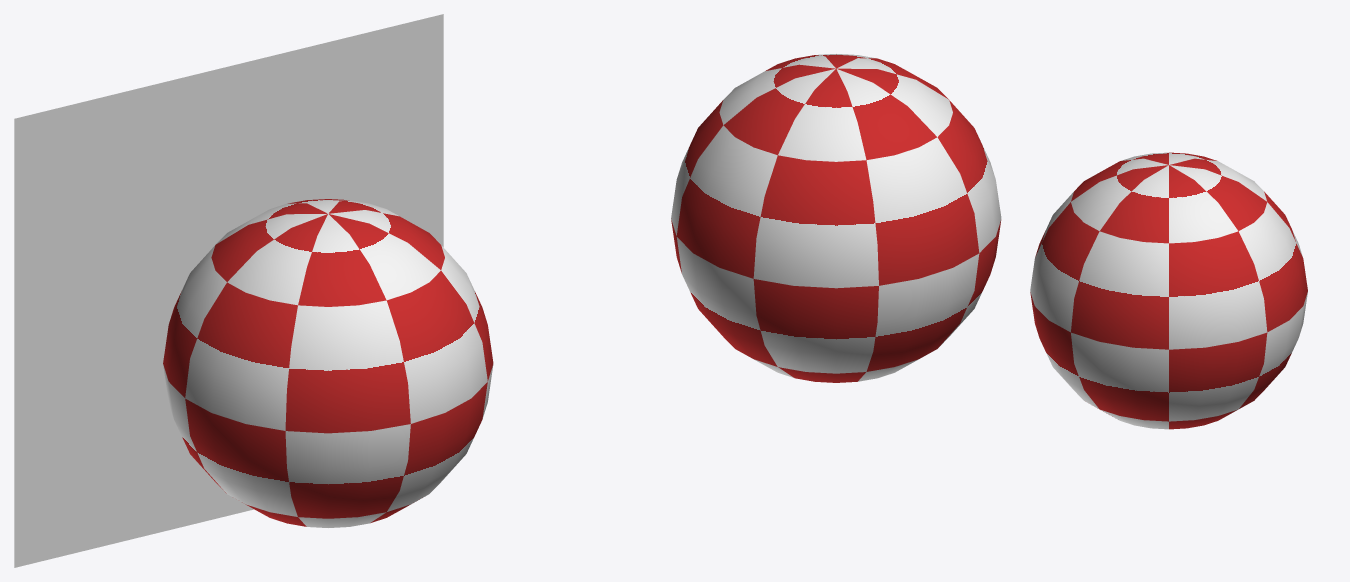
The model's file is embedded.glb.
3 views of the same model, side by side, from view 1: azimuth 30°, elevation 25°; view 2: azimuth 150°, elevation 25°; view 3: azimuth 270°, elevation 25° (orthographic). The views are drawn at different scales.
Size of the model in its own units: 3 by 3 by 2.2.
Materials: 1 (1 with a texture image).
